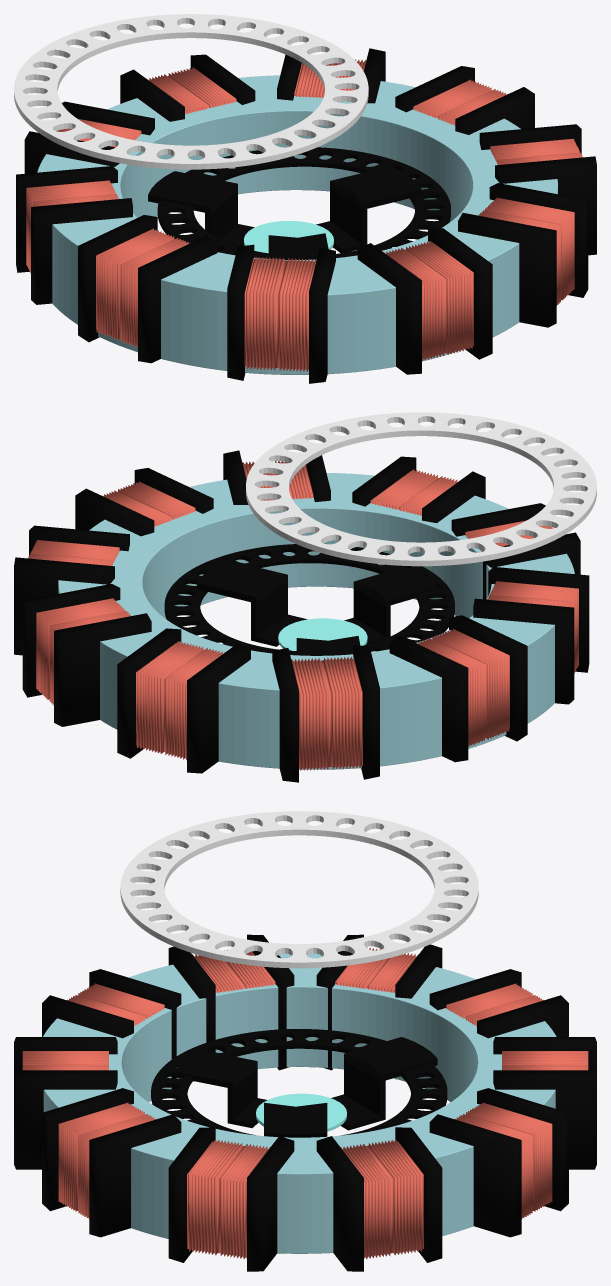
The model's file is arcReacter.glb.
3 renders of one model, top to bottom at view 1: azimuth 30°, elevation 25°; view 2: azimuth 150°, elevation 25°; view 3: azimuth 270°, elevation 25°, orthographic. The views are drawn at different scales.
Parts seen in each view (by area): view 1: Cube, Circle.002, Circle.001, Circle, Cube.001, Cube.003, Circle.003, Cube.002; view 2: Cube, Circle.002, Circle.001, Circle, Cube.001, Cube.002, Circle.003, Cube.003; view 3: Cube, Circle.002, Circle.001, Circle, Cube.003, Cube.002, Cube.001, Circle.003.
Part boxes in pixels (bbox=[...]): Cube: bbox=[16, 48, 596, 383]; Circle.002: bbox=[37, 75, 557, 374]; Circle.001: bbox=[14, 14, 368, 169]; Circle: bbox=[157, 147, 450, 259]; Cube.001: bbox=[316, 166, 421, 253]; Cube.003: bbox=[148, 171, 254, 252]; Circle.003: bbox=[244, 221, 333, 253]; Cube.002: bbox=[268, 233, 328, 259]; Cube: bbox=[14, 450, 589, 782]; Circle.002: bbox=[58, 473, 574, 769]; Circle.001: bbox=[246, 412, 596, 566]; Circle: bbox=[164, 544, 454, 655]; Cube.001: bbox=[197, 560, 307, 646]; Cube.002: bbox=[344, 566, 436, 644]; Circle.003: bbox=[278, 618, 367, 650]; Cube.003: bbox=[296, 635, 360, 655]; Cube: bbox=[14, 934, 596, 1271]; Circle.002: bbox=[43, 953, 556, 1253]; Circle.001: bbox=[120, 811, 478, 968]; Circle: bbox=[151, 1029, 447, 1135]; Cube.003: bbox=[331, 1037, 437, 1130]; Cube.002: bbox=[175, 1049, 267, 1127]; Cube.001: bbox=[264, 1102, 327, 1137]; Circle.003: bbox=[256, 1093, 346, 1131].
Bounding box in the file's own units: 3.37 × 1.26 × 3.23.
